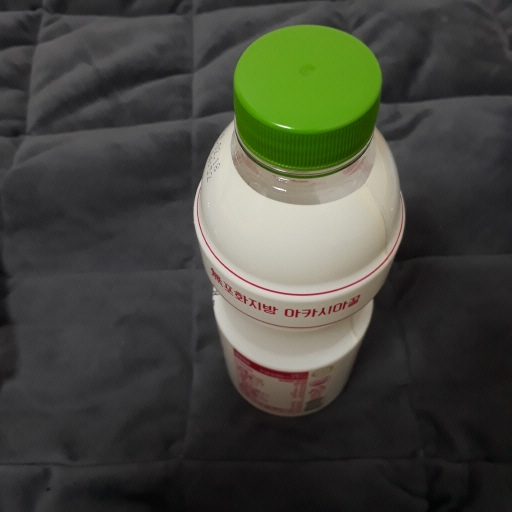Plastic_0: (195, 24, 406, 417)
